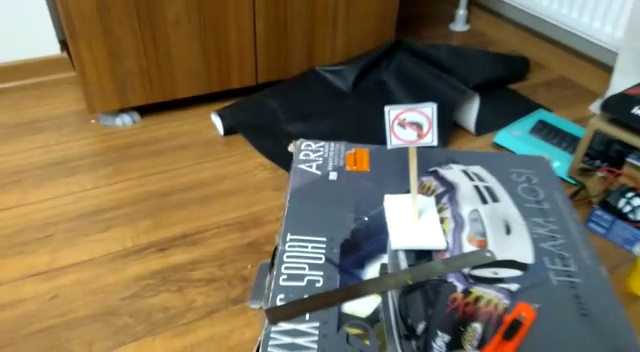sola_donulmez: (389, 105, 433, 145)
